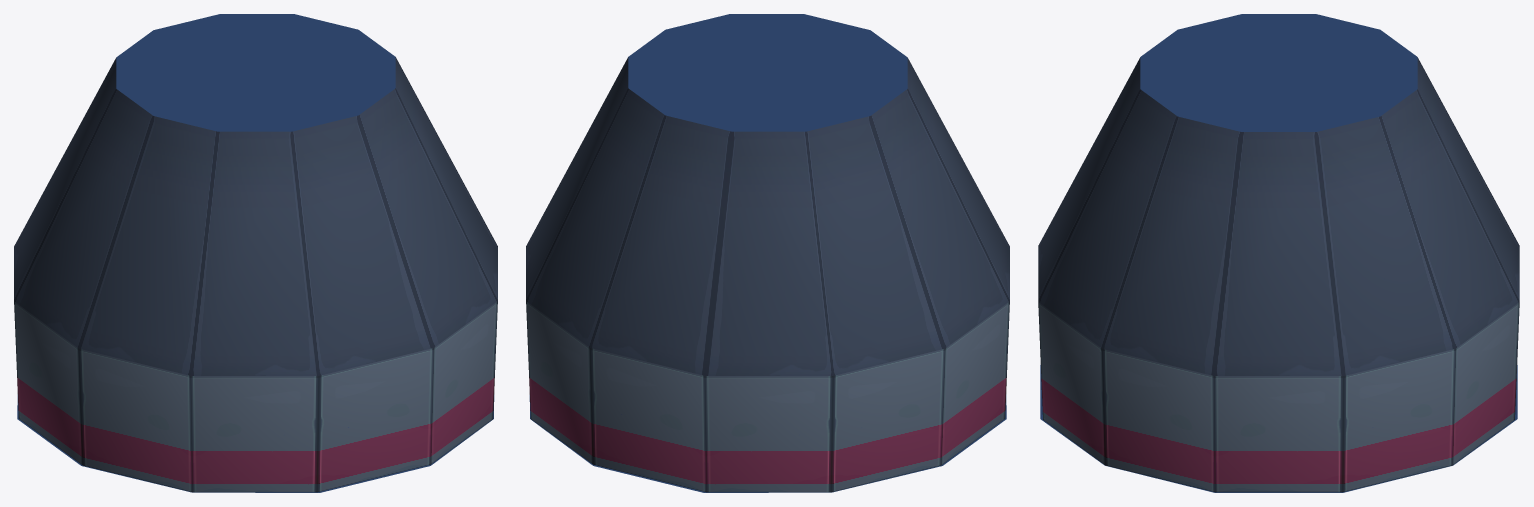
File: S5_BattleShip_Internal_01_Lod2.fbx
3 renders of one model, left to right at view 1: azimuth 30°, elevation 25°; view 2: azimuth 150°, elevation 25°; view 3: azimuth 270°, elevation 25°, orthographic.
Visible parts, largest first — view 1: S5_BattleShip_Internal_01_Lod2; view 2: S5_BattleShip_Internal_01_Lod2; view 3: S5_BattleShip_Internal_01_Lod2.
Part boxes in pixels (x1,y1,x2,y2): S5_BattleShip_Internal_01_Lod2: (14,14,497,492); S5_BattleShip_Internal_01_Lod2: (526,14,1009,492); S5_BattleShip_Internal_01_Lod2: (1038,14,1519,492).
Bounding box in the file's own units: 2630 × 1915 × 2618.
